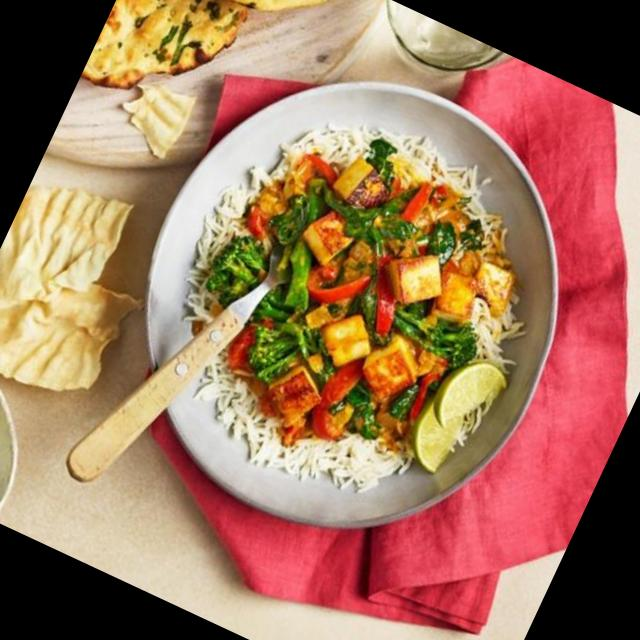rice: (323, 436, 372, 489)
